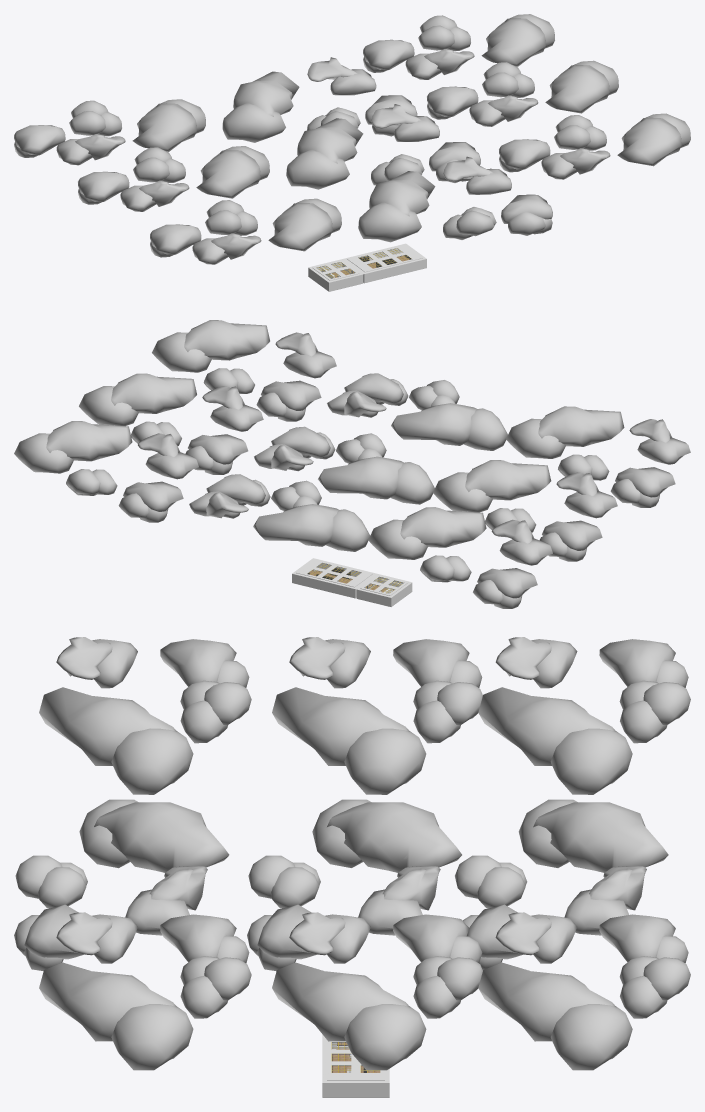
File: Show_scene.fbx
3 renders of one model, top to bottom at view 1: azimuth 30°, elevation 25°; view 2: azimuth 150°, elevation 25°; view 3: azimuth 270°, elevation 25°, orthographic. The views are drawn at different scales.
Visible parts, largest first — view 1: cloud, Plane.000, glass.001; view 2: cloud, Plane.000, glass.001; view 3: cloud, Plane.000.
Part boxes in pixels (x1,y1,x2,y2): cloud: [14, 14, 690, 264]; Plane.000: [308, 243, 426, 291]; glass.001: [317, 248, 410, 278]; cloud: [14, 320, 690, 608]; Plane.000: [292, 558, 412, 606]; glass.001: [308, 563, 403, 593]; cloud: [14, 637, 690, 1070]; Plane.000: [322, 1034, 389, 1097].
Size of the model in its own units: 26739 by 7600 by 18607.
